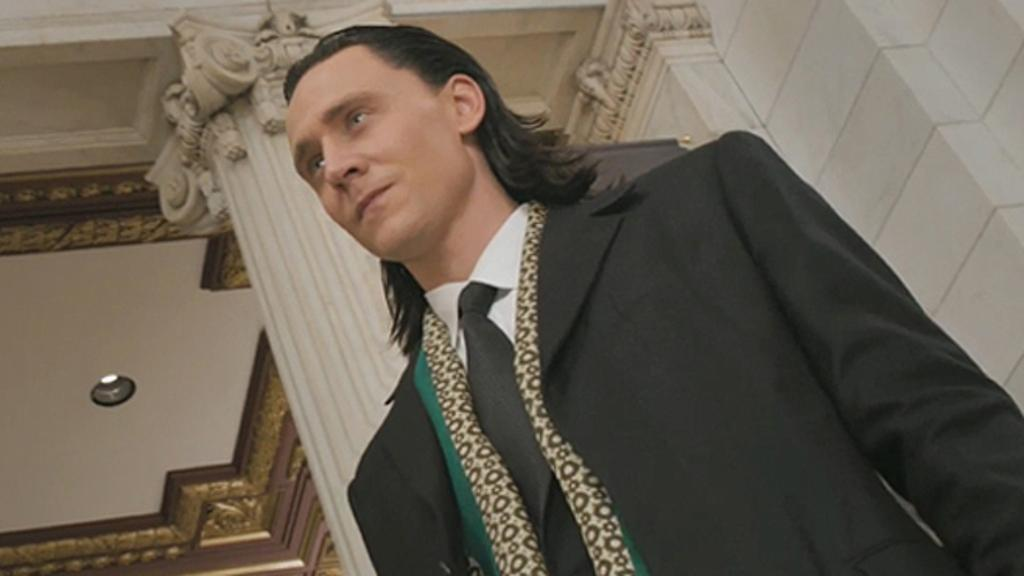face: (285, 49, 471, 257)
